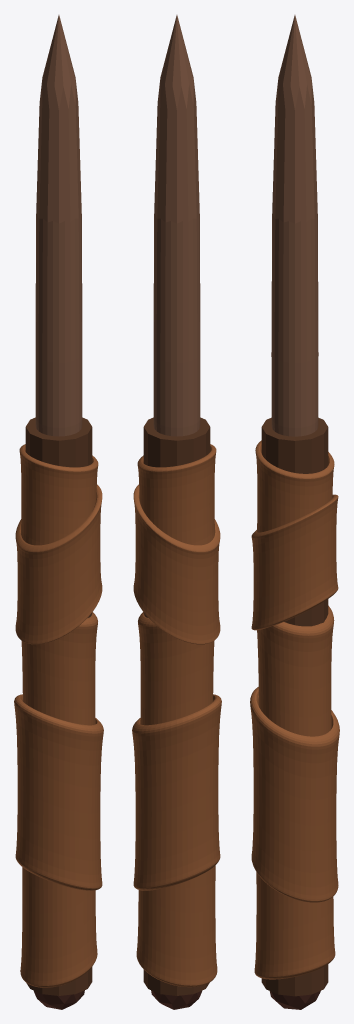
Rendered from Wand 300.glb.
3 views of the same model, side by side, from view 1: azimuth 30°, elevation 25°; view 2: azimuth 150°, elevation 25°; view 3: azimuth 330°, elevation 25° (orthographic).
Parts seen in each view (by area): view 1: GeneratedWand; view 2: GeneratedWand; view 3: GeneratedWand.
Part boxes in pixels (<box>): GeneratedWand: <box>14,15,103,1009</box>; GeneratedWand: <box>132,15,221,1009</box>; GeneratedWand: <box>250,15,339,1009</box>.
Size of the model in its own units: 0.0408 by 0.4983 by 0.0408.
